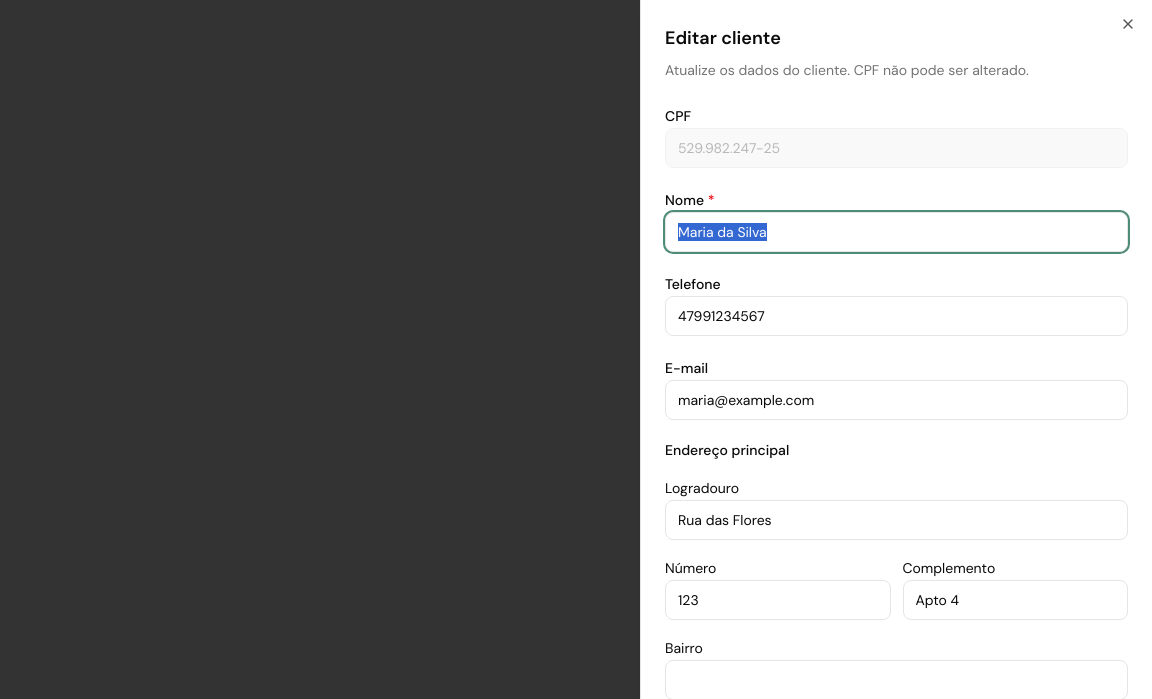
Test: EditClientDrawer › should show client-side validation error when name is cleared
The image size is (1152, 699).
Clear the field labelled "Nome *" at (896, 232), box [665,212,1128,252]
(page scrolled)
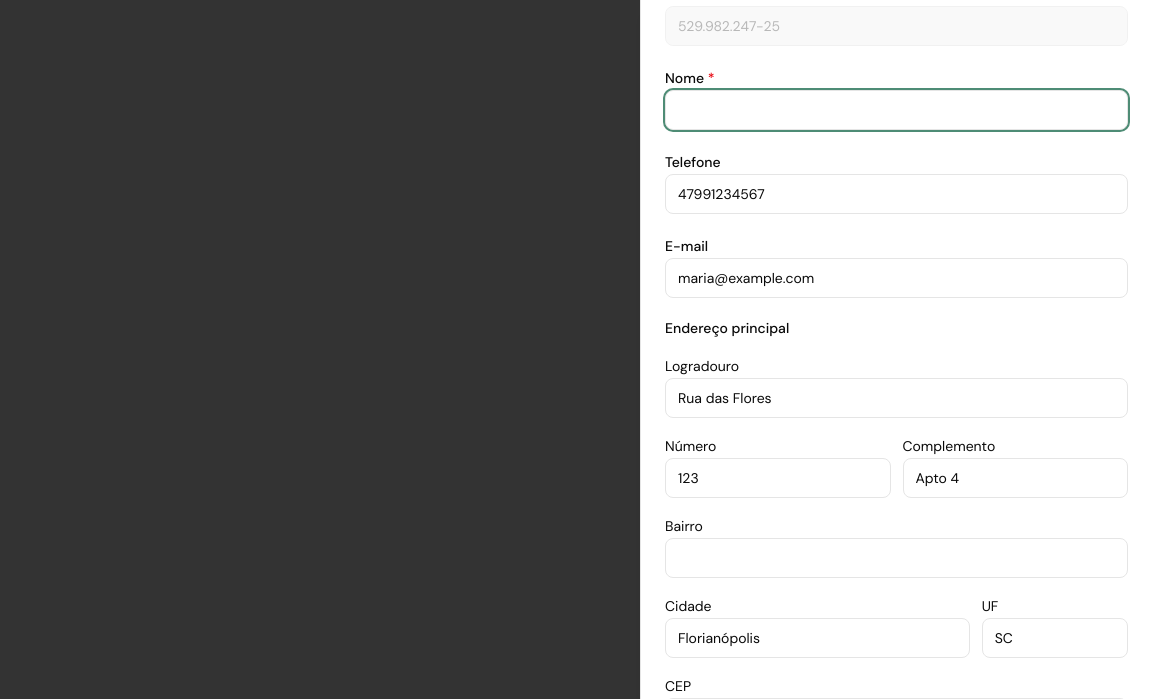
Submit the form with id "edit-client-form"
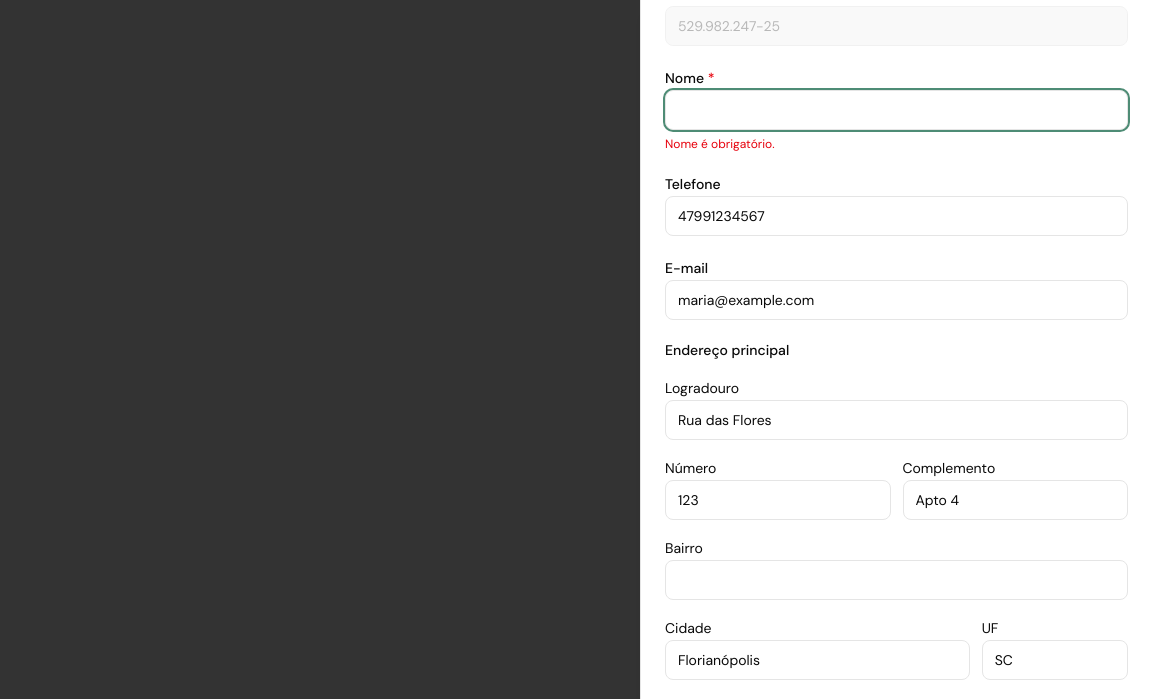
Result: the text "Nome é obrigatório." is shown at [665,136,775,152]
